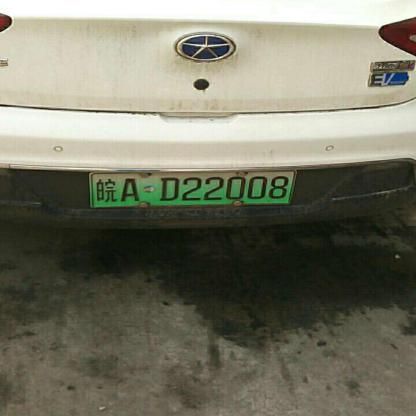lp: (93, 170, 294, 206)
